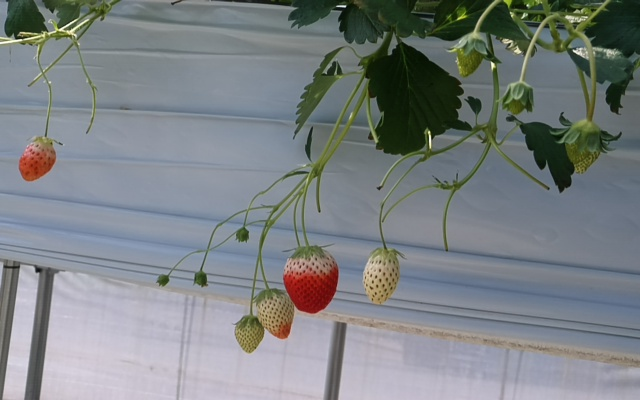GreenStrawberry: (561, 117, 608, 178), (360, 243, 402, 307), (253, 288, 297, 342), (451, 30, 487, 82), (233, 313, 267, 355), (501, 78, 533, 116)
MatureStrawberry: (279, 245, 339, 317), (15, 136, 58, 184)
